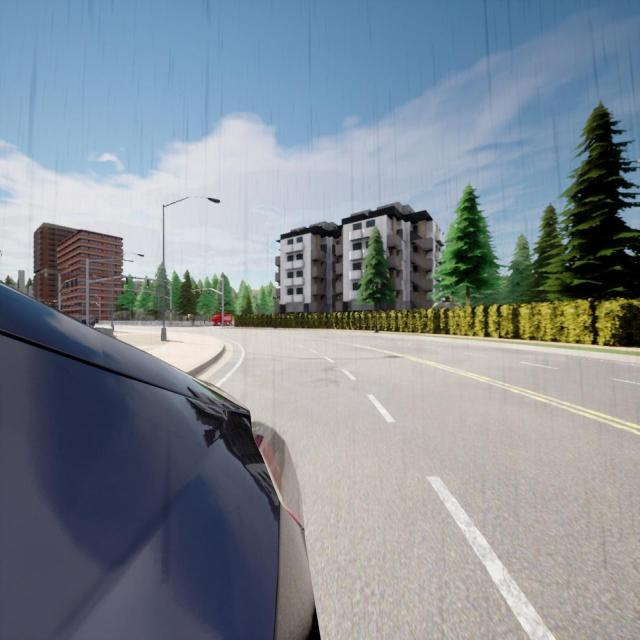Vehicle: (0, 285, 318, 638), (211, 312, 232, 326)
traffic_light: (126, 277, 128, 284), (193, 290, 196, 294), (122, 289, 124, 295), (147, 280, 149, 286), (208, 289, 210, 294), (149, 292, 151, 296), (200, 290, 202, 294), (135, 291, 136, 296)
